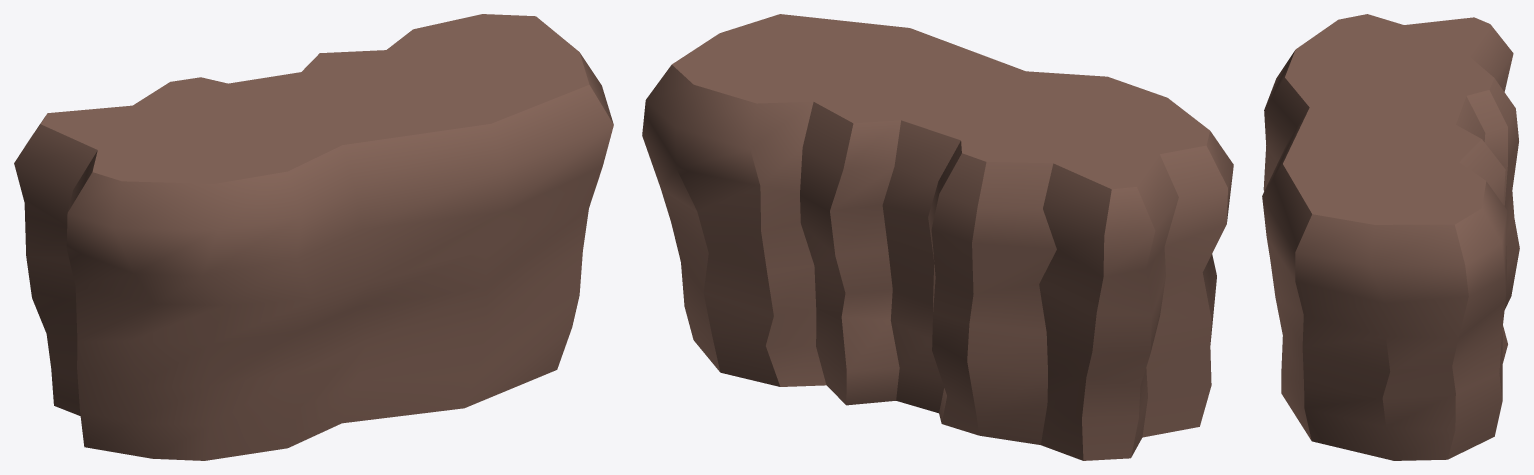
File: cliff_no_grass.fbx
The picture shows the model from 3 angles, left to right: view 1: azimuth 30°, elevation 25°; view 2: azimuth 150°, elevation 25°; view 3: azimuth 270°, elevation 25°; orthographic projection. The views are drawn at different scales.
Parts seen in each view (by area): view 1: cliff; view 2: cliff; view 3: cliff.
Boxes of the visible parts, left/top/right/bottom form: cliff: left=14, top=14, right=613, bottom=460; cliff: left=642, top=14, right=1233, bottom=460; cliff: left=1262, top=14, right=1519, bottom=460.
Size of the model in its own units: 2597 by 1296 by 1236.
